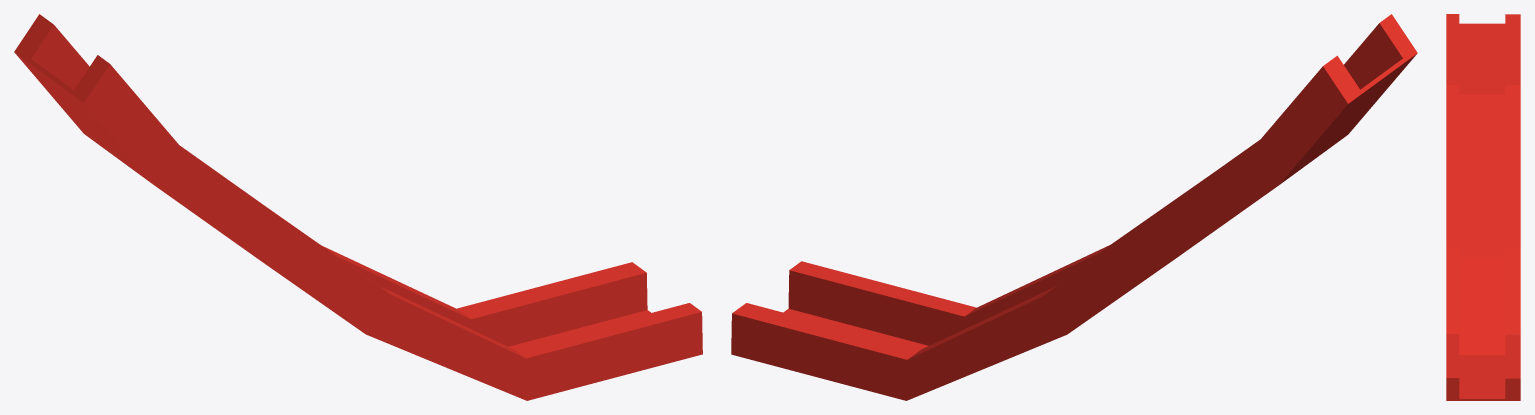
Rendered from slider.fbx.
The picture shows the model from 3 angles, left to right: view 1: azimuth 30°, elevation 25°; view 2: azimuth 150°, elevation 25°; view 3: azimuth 270°, elevation 25°; orthographic projection. The views are drawn at different scales.
Parts seen in each view (by area): view 1: 平面; view 2: 平面; view 3: 平面.
Part boxes in pixels (left/top/right/bottom): 平面: left=14, top=14, right=702, bottom=400; 平面: left=731, top=14, right=1417, bottom=400; 平面: left=1446, top=14, right=1520, bottom=400.
Bounding box in the file's own units: 5482 × 3714 × 1071.
